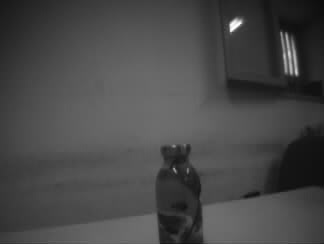Bottle: (155, 144, 204, 244)
